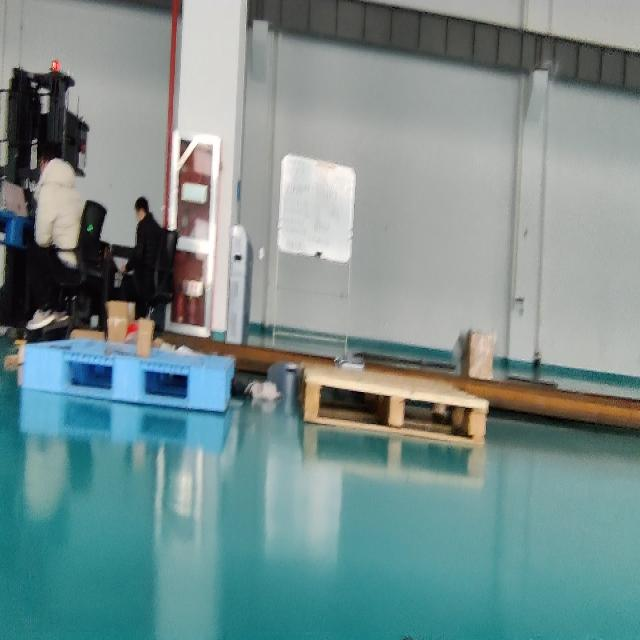euro: (301, 363, 491, 456)
